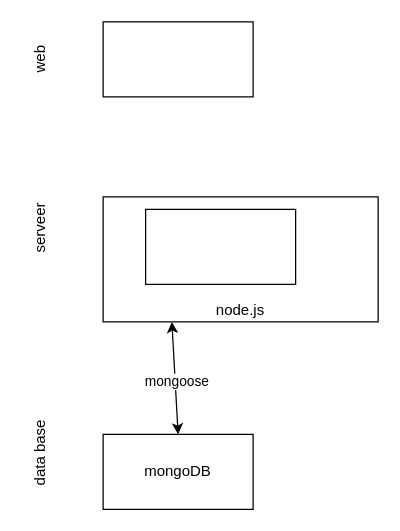
Image size: 400x531. Some labels were removed from this diagram. The shapes that lost their labels are listed below. From the top down, each one's centre as x and y in pixels, then its label:
At (x=177, y=59): "react.js".
At (x=220, y=246): "express.js".
